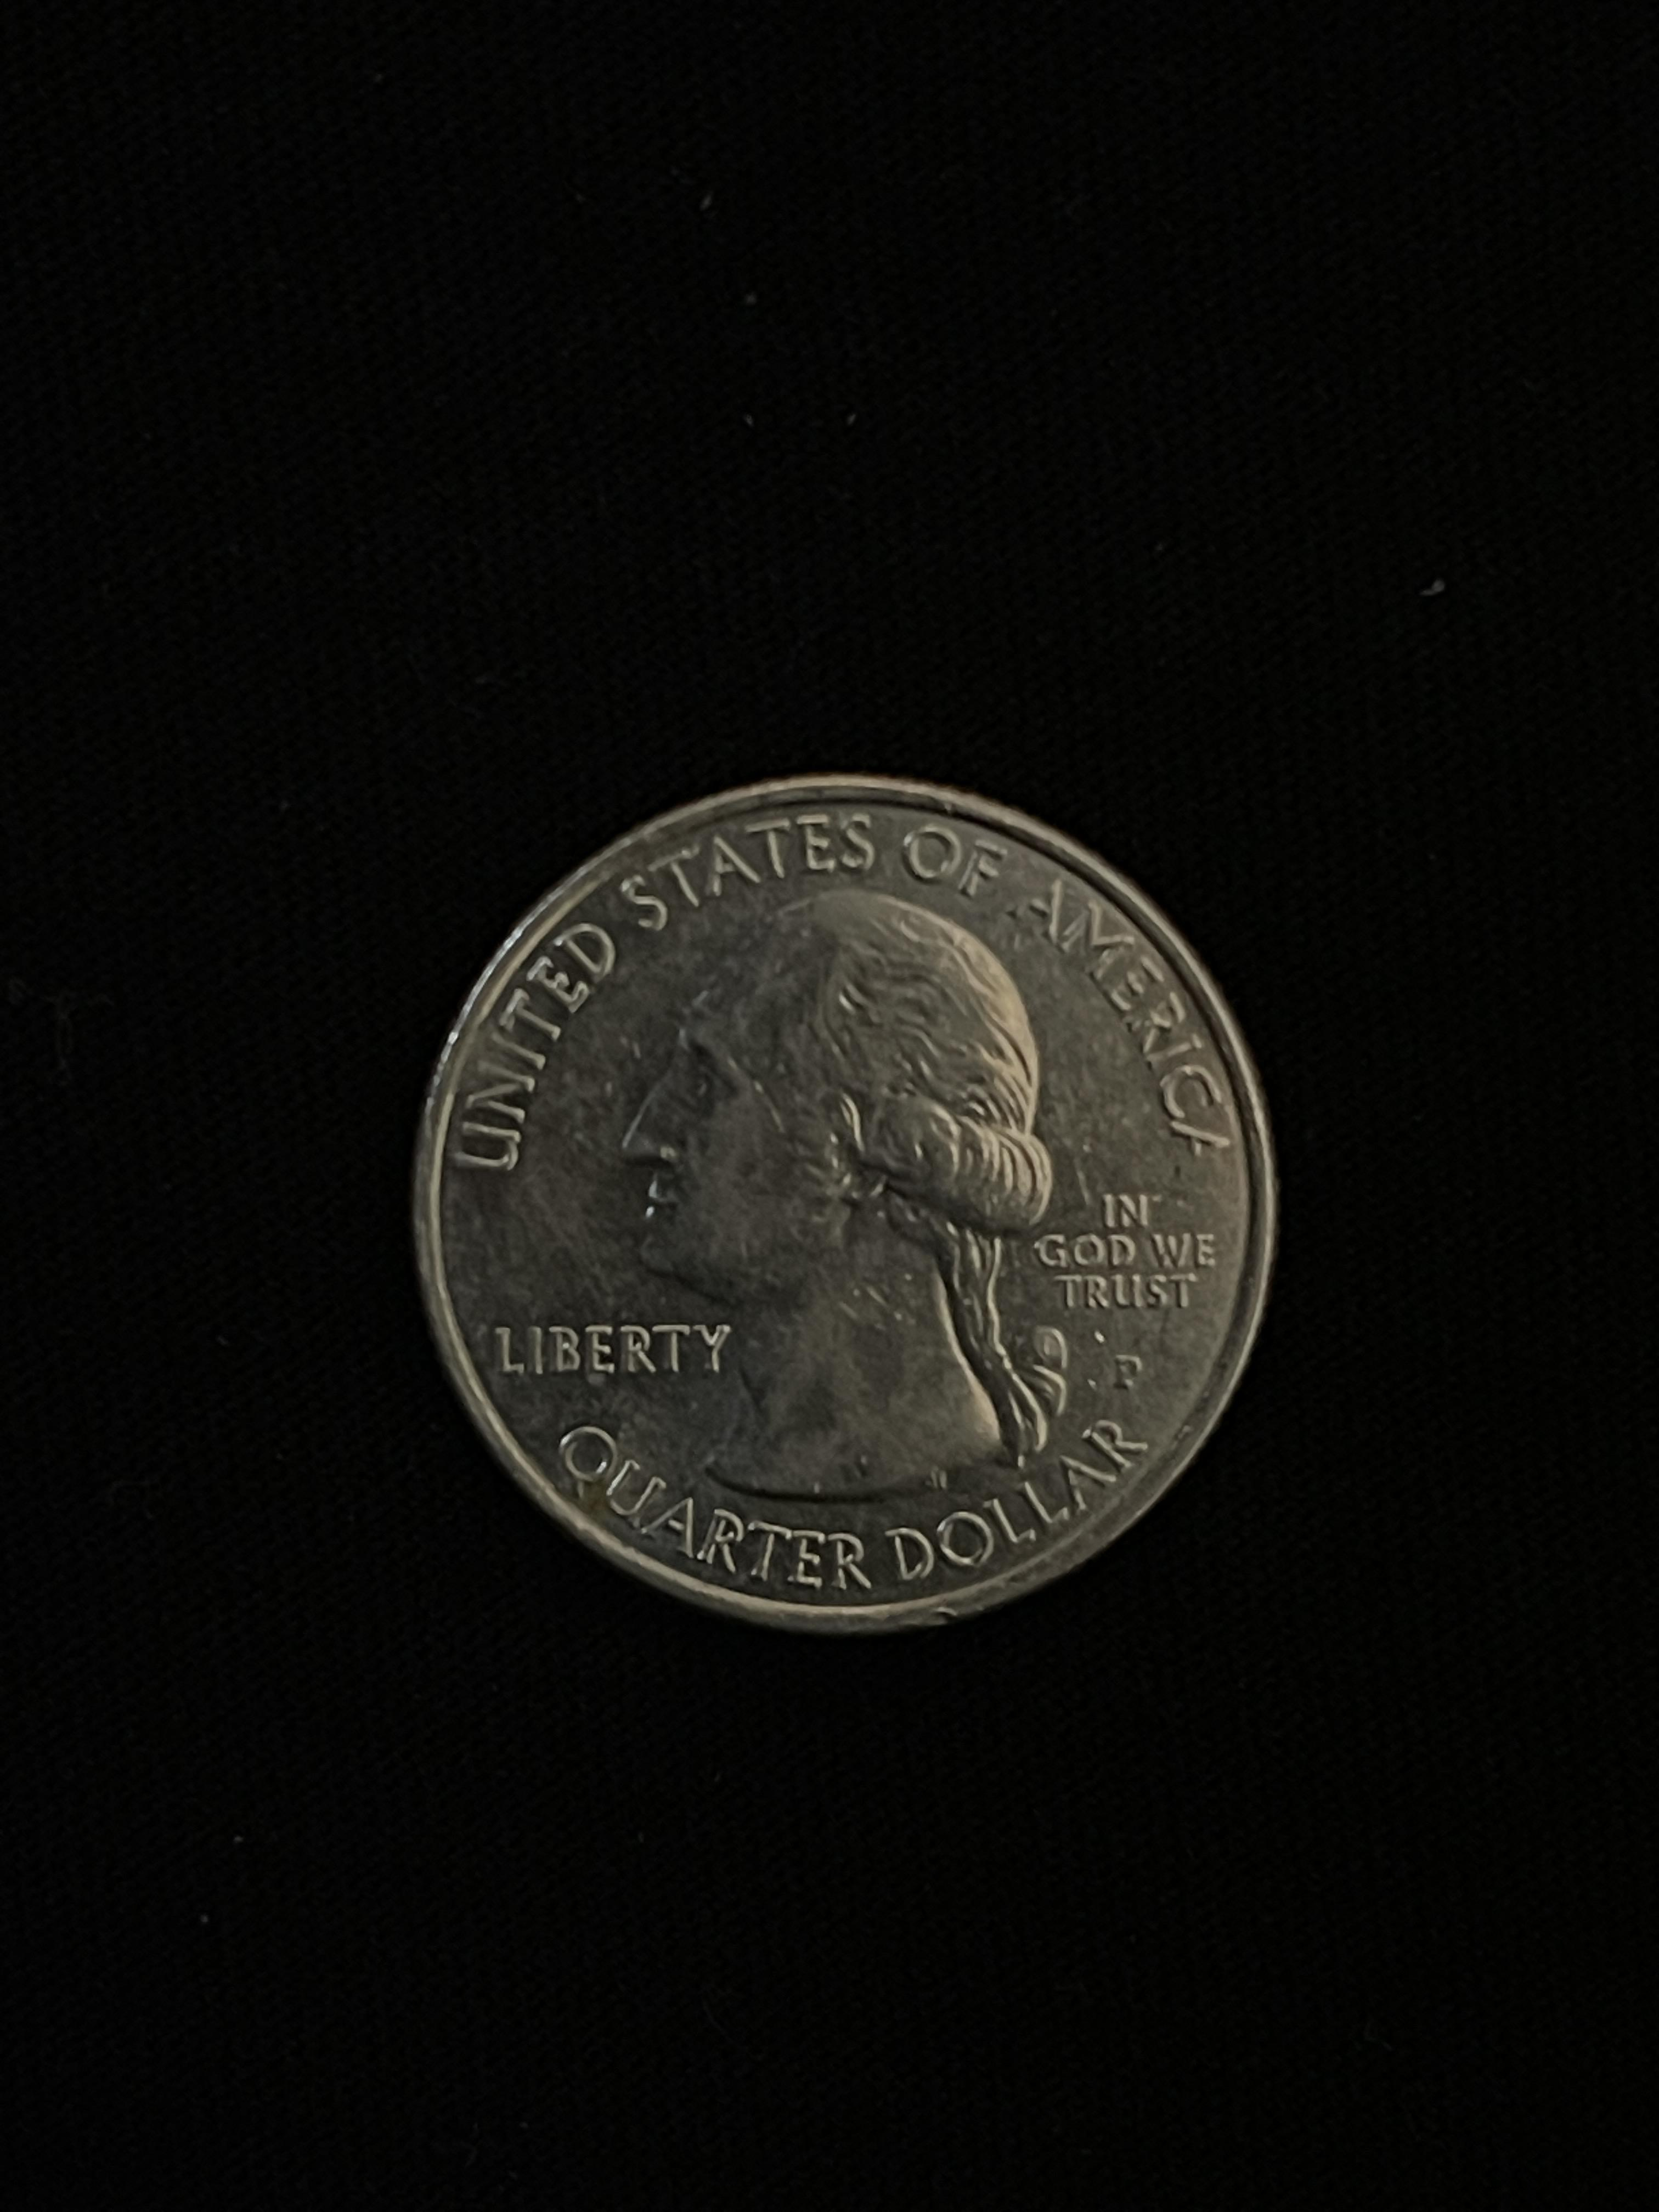Quarter: (406, 768, 1281, 1637)
